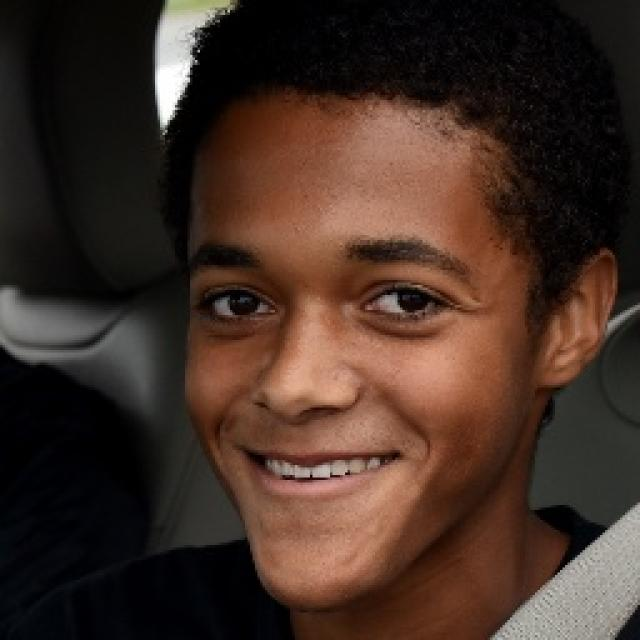earlobe: (539, 247, 618, 391)
